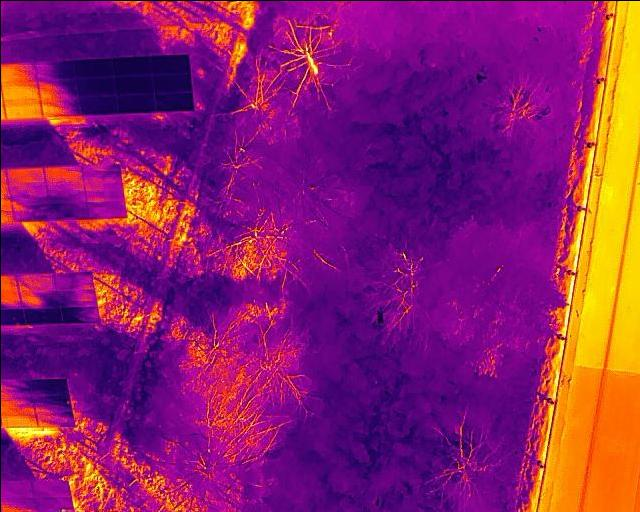No-Anomaly: (2, 99, 41, 119), (0, 82, 38, 99)
Shadowing: (37, 58, 76, 79), (76, 75, 116, 95), (84, 180, 122, 201), (155, 90, 193, 111), (49, 200, 88, 220), (46, 181, 85, 201), (112, 56, 153, 75), (12, 201, 50, 221), (7, 182, 47, 201), (80, 95, 118, 115), (119, 93, 157, 113), (37, 78, 77, 97), (116, 72, 154, 92), (15, 270, 54, 289), (40, 97, 81, 115), (0, 63, 38, 82), (18, 288, 58, 306), (81, 164, 121, 182), (75, 58, 112, 77), (57, 289, 96, 307), (44, 165, 83, 183), (6, 166, 45, 184), (32, 495, 72, 512), (154, 71, 191, 89), (32, 393, 70, 410), (30, 480, 68, 497), (56, 271, 91, 289), (153, 53, 188, 71), (35, 410, 74, 426), (87, 200, 123, 217), (23, 307, 60, 323), (60, 308, 97, 323), (29, 378, 65, 393)
